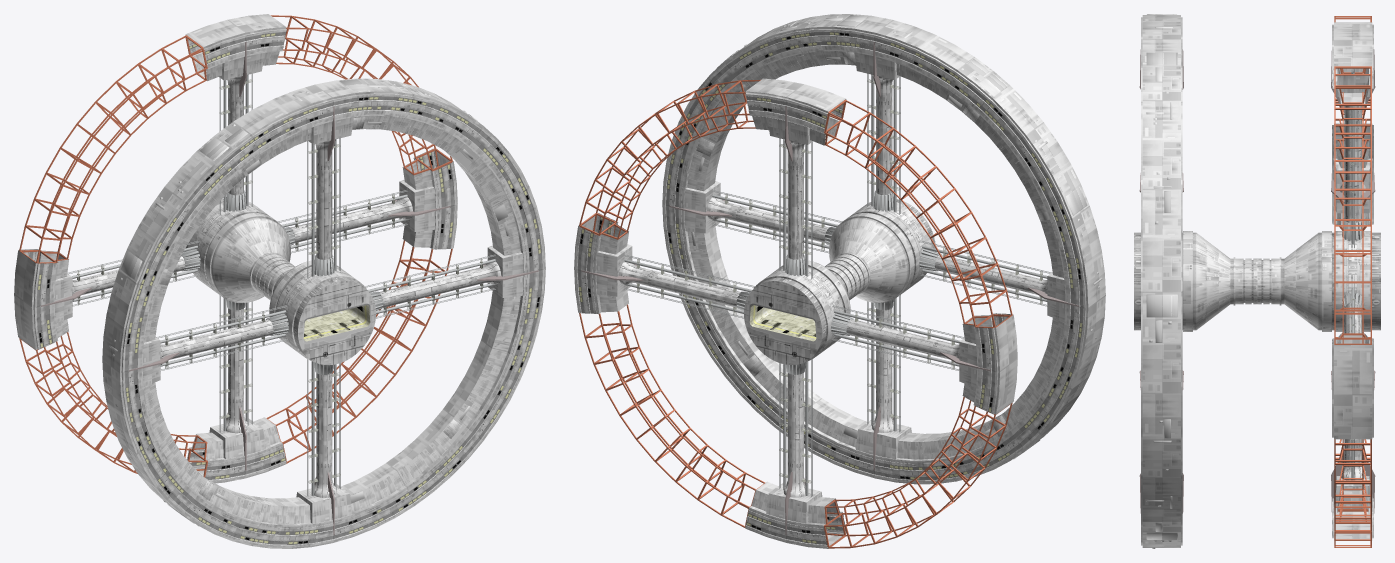
File: spaceStation.gltf
3 views of the same model, side by side, from view 1: azimuth 30°, elevation 25°; view 2: azimuth 150°, elevation 25°; view 3: azimuth 270°, elevation 25° (orthographic). The views are drawn at different scales.
Parts seen in each view (by area): view 1: Wheel01, Mesh01_Material #26_0, Wheel_Gird, Cables01, Hub, Wheel02, Spoke03, Spoke02, Bay_Face_0, Spoke01, Spoke04, Blocks02 (+10 smaller); view 2: Wheel01, Mesh02_Material #26_0, Wheel_Gird, Cables01, Hub, Wheel02, Spoke03, Bay_Face_1, Spoke02, Spoke01, Spoke04, Blocks02 (+10 smaller); view 3: Wheel01, Hub, Wheel02, Wheel_Gird, Spoke01, Spoke_Supp, Cables01, Blocks04, Blocks01, Spoke03, Blocks03, Spoke02.
Part boxes in pixels (<box>): Wheel01: <box>102,78,545,548</box>; Mesh01_Material #26_0: <box>122,94,544,547</box>; Wheel_Gird: <box>19,15,452,477</box>; Cables01: <box>67,73,495,496</box>; Hub: <box>186,199,366,361</box>; Wheel02: <box>14,14,457,483</box>; Spoke03: <box>226,302,336,497</box>; Spoke02: <box>288,197,501,307</box>; Bay_Face_0: <box>298,281,375,365</box>; Spoke01: <box>227,75,335,274</box>; Spoke04: <box>72,256,287,364</box>; Blocks02: <box>399,179,523,297</box>; Wheel01: <box>662,14,1105,484</box>; Mesh02_Material #26_0: <box>663,29,1085,482</box>; Wheel_Gird: <box>579,80,1012,548</box>; Cables01: <box>624,73,1051,496</box>; Hub: <box>753,199,935,361</box>; Wheel02: <box>574,78,1017,548</box>; Spoke03: <box>783,302,893,497</box>; Bay_Face_1: <box>744,281,822,364</box>; Spoke02: <box>619,197,831,307</box>; Spoke01: <box>784,75,892,274</box>; Spoke04: <box>832,254,1047,364</box>; Blocks02: <box>596,181,720,296</box>; Wheel01: <box>1141,14,1182,548</box>; Hub: <box>1134,231,1380,331</box>; Wheel02: <box>1332,22,1373,540</box>; Wheel_Gird: <box>1334,16,1371,547</box>; Spoke01: <box>1344,106,1361,239</box>; Spoke_Supp: <box>1139,49,1375,513</box>; Cables01: <box>1342,69,1364,480</box>; Blocks04: <box>1333,158,1372,213</box>; Blocks01: <box>1335,68,1372,96</box>; Spoke03: <box>1340,439,1365,480</box>; Blocks03: <box>1333,476,1372,508</box>; Spoke02: <box>1344,295,1361,333</box>.
Bounding box in the file's own units: 24893 × 24929 × 11507.
Materials: 12 (8 with a texture image).
